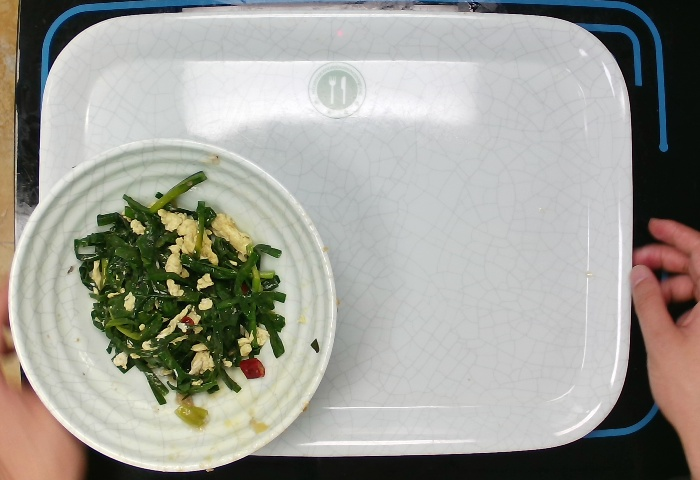JYsf-Da_Tang_Wan: (9, 136, 336, 473)
